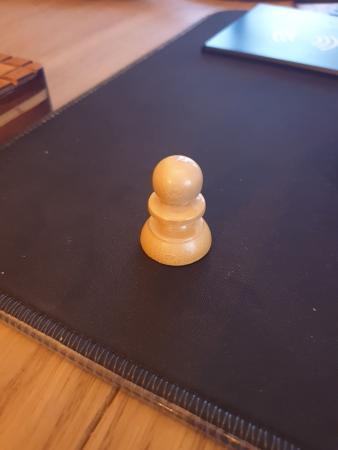wpawn: (137, 154, 213, 268)
